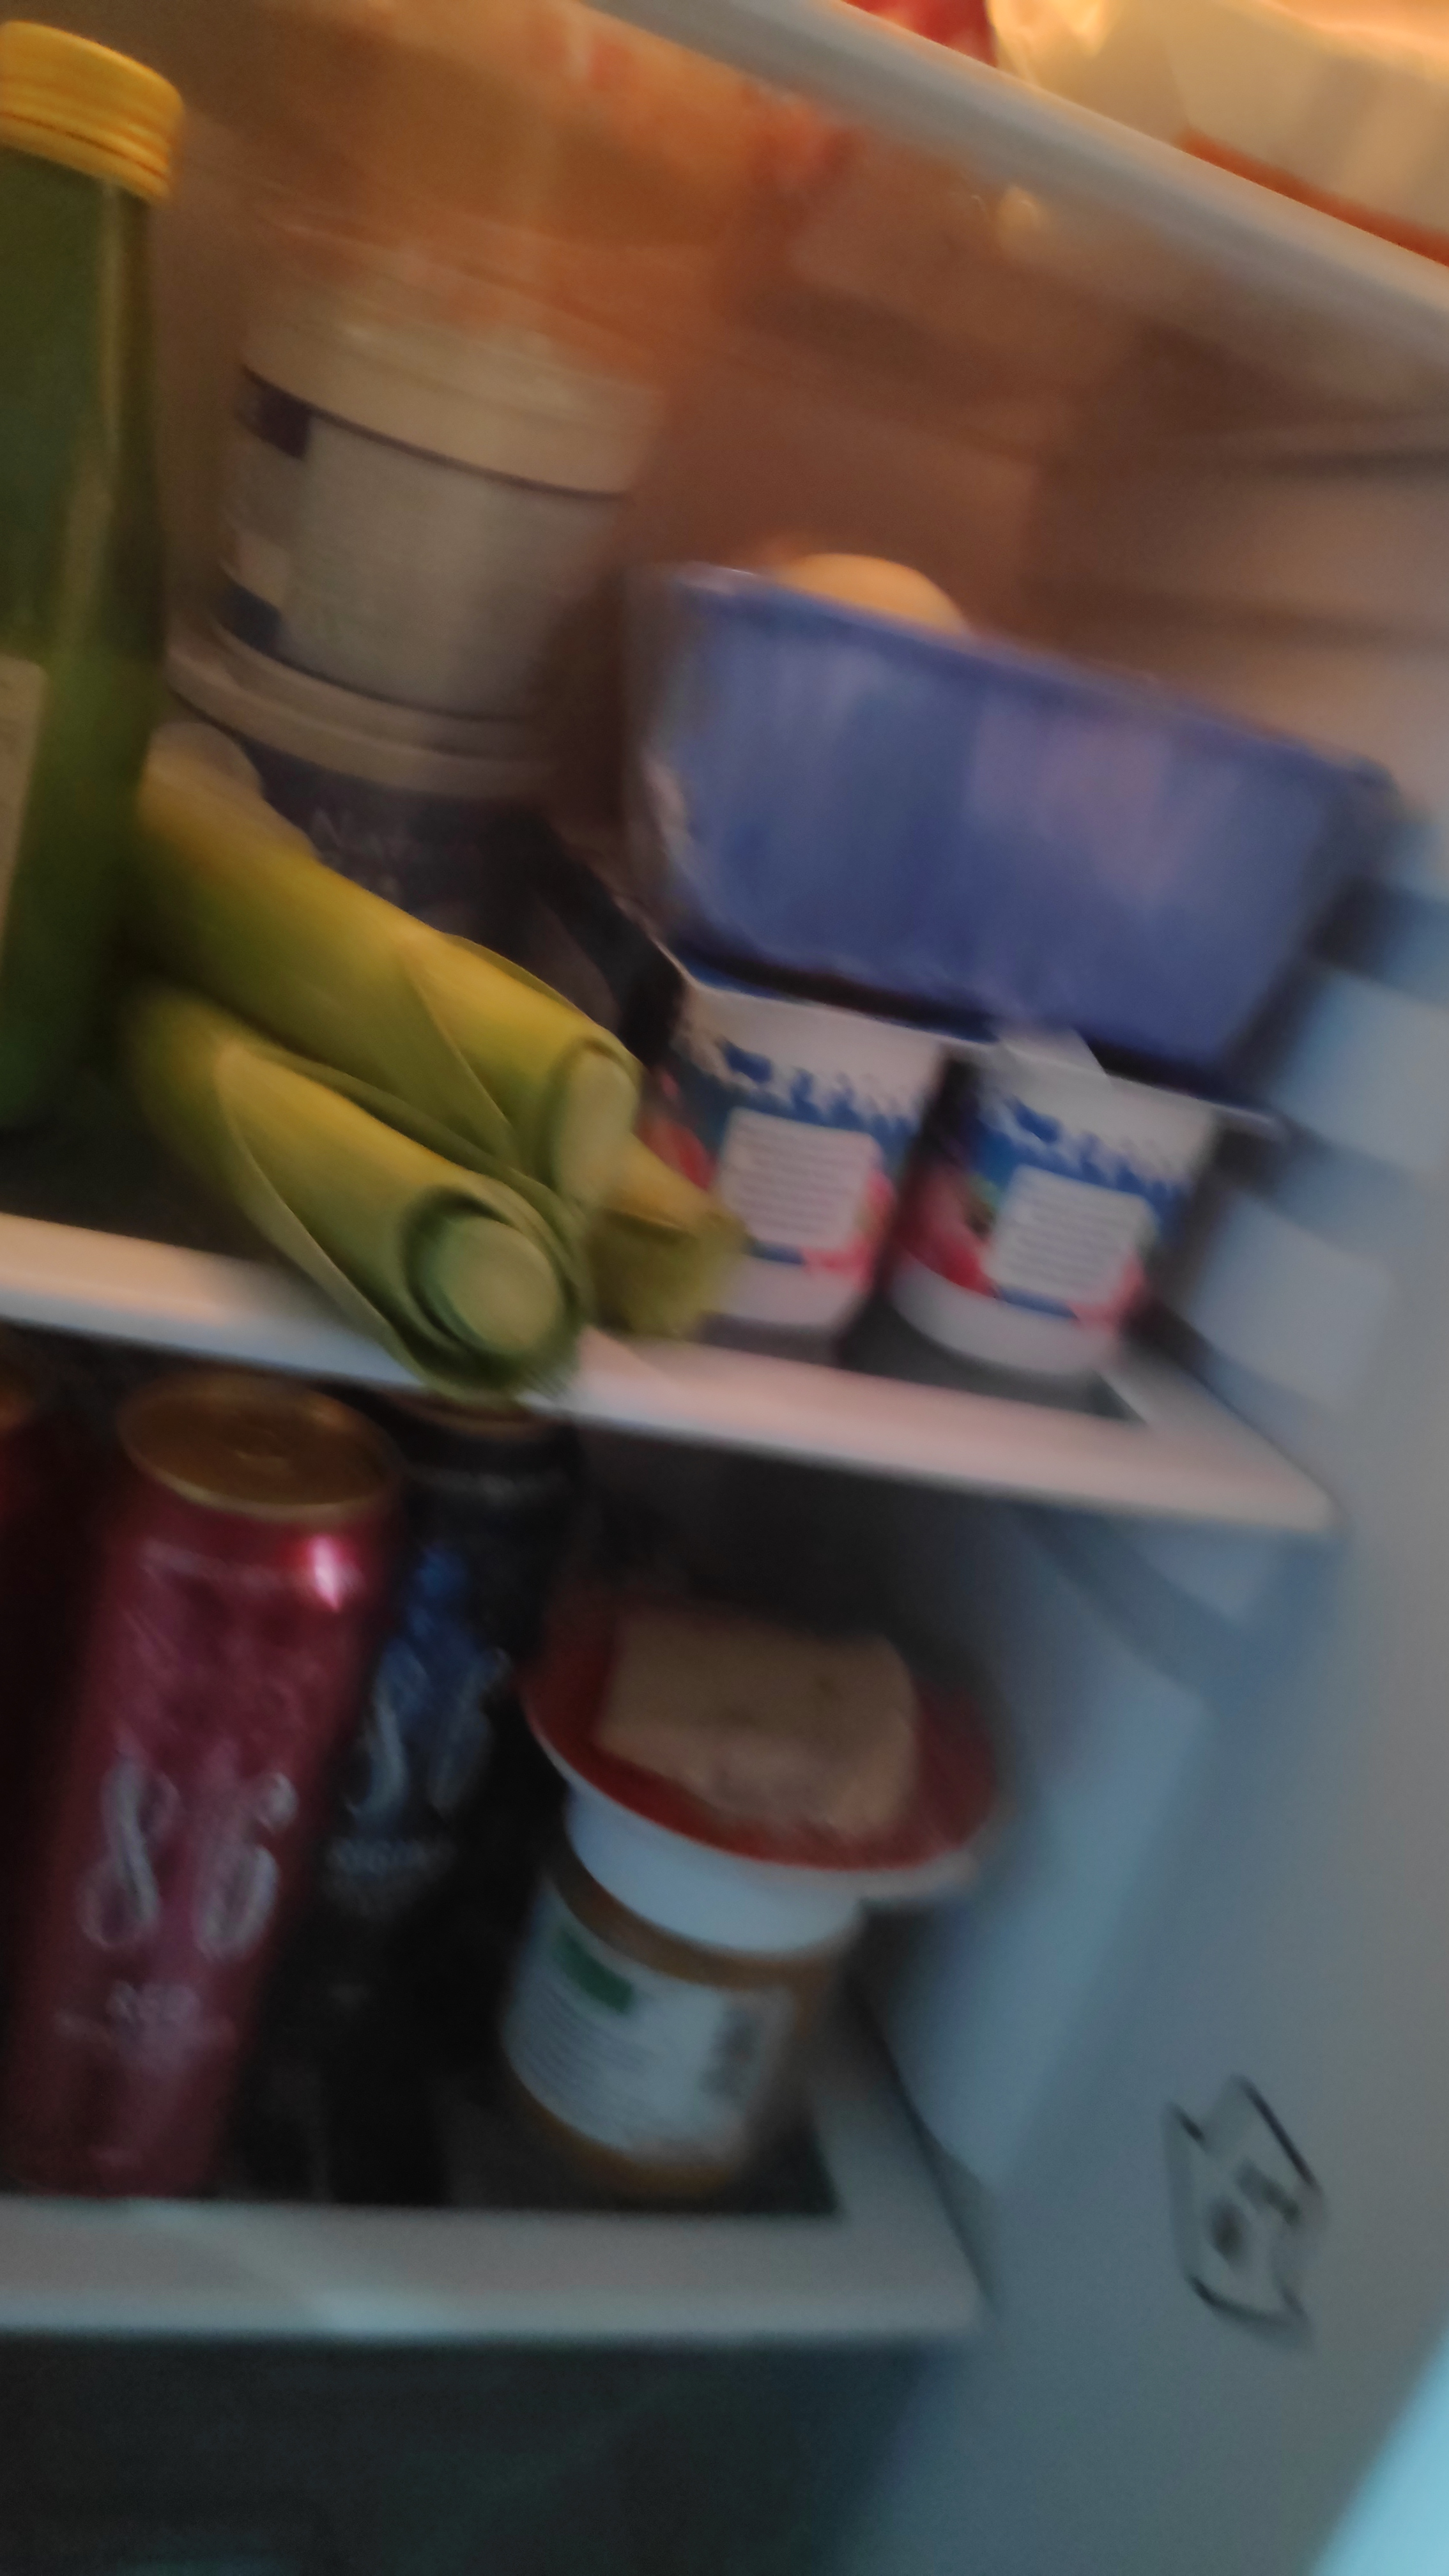can: (25, 1368, 393, 2226), (341, 1371, 566, 1985)
cream: (209, 191, 637, 743), (156, 607, 573, 966)
mushroom: (625, 545, 1391, 1088)
yoghurt: (635, 913, 962, 1350), (899, 996, 1258, 1389)
